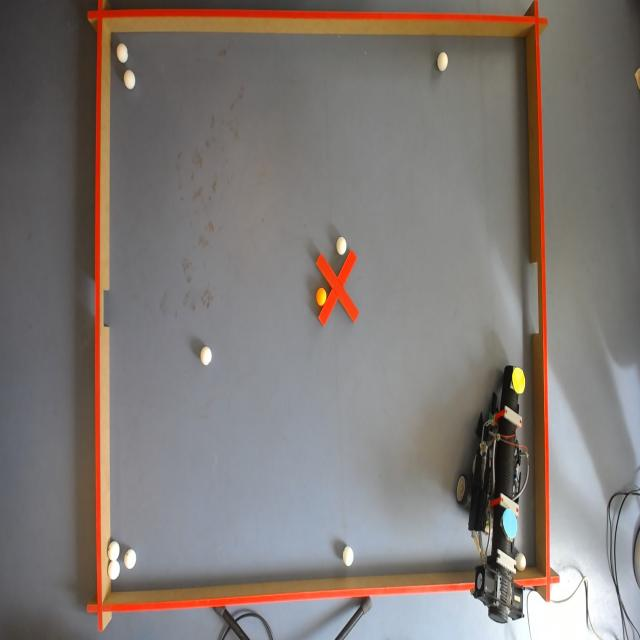orange: (316, 287, 326, 307)
robot: (456, 364, 530, 626)
robot-front: (510, 366, 531, 394)
robot-rear: (501, 503, 519, 538)
white: (124, 548, 138, 570), (122, 68, 136, 90), (106, 560, 120, 581), (342, 546, 355, 568), (200, 344, 212, 366), (117, 44, 130, 63), (437, 53, 450, 72), (337, 236, 348, 255), (108, 542, 119, 561), (517, 552, 527, 572)
